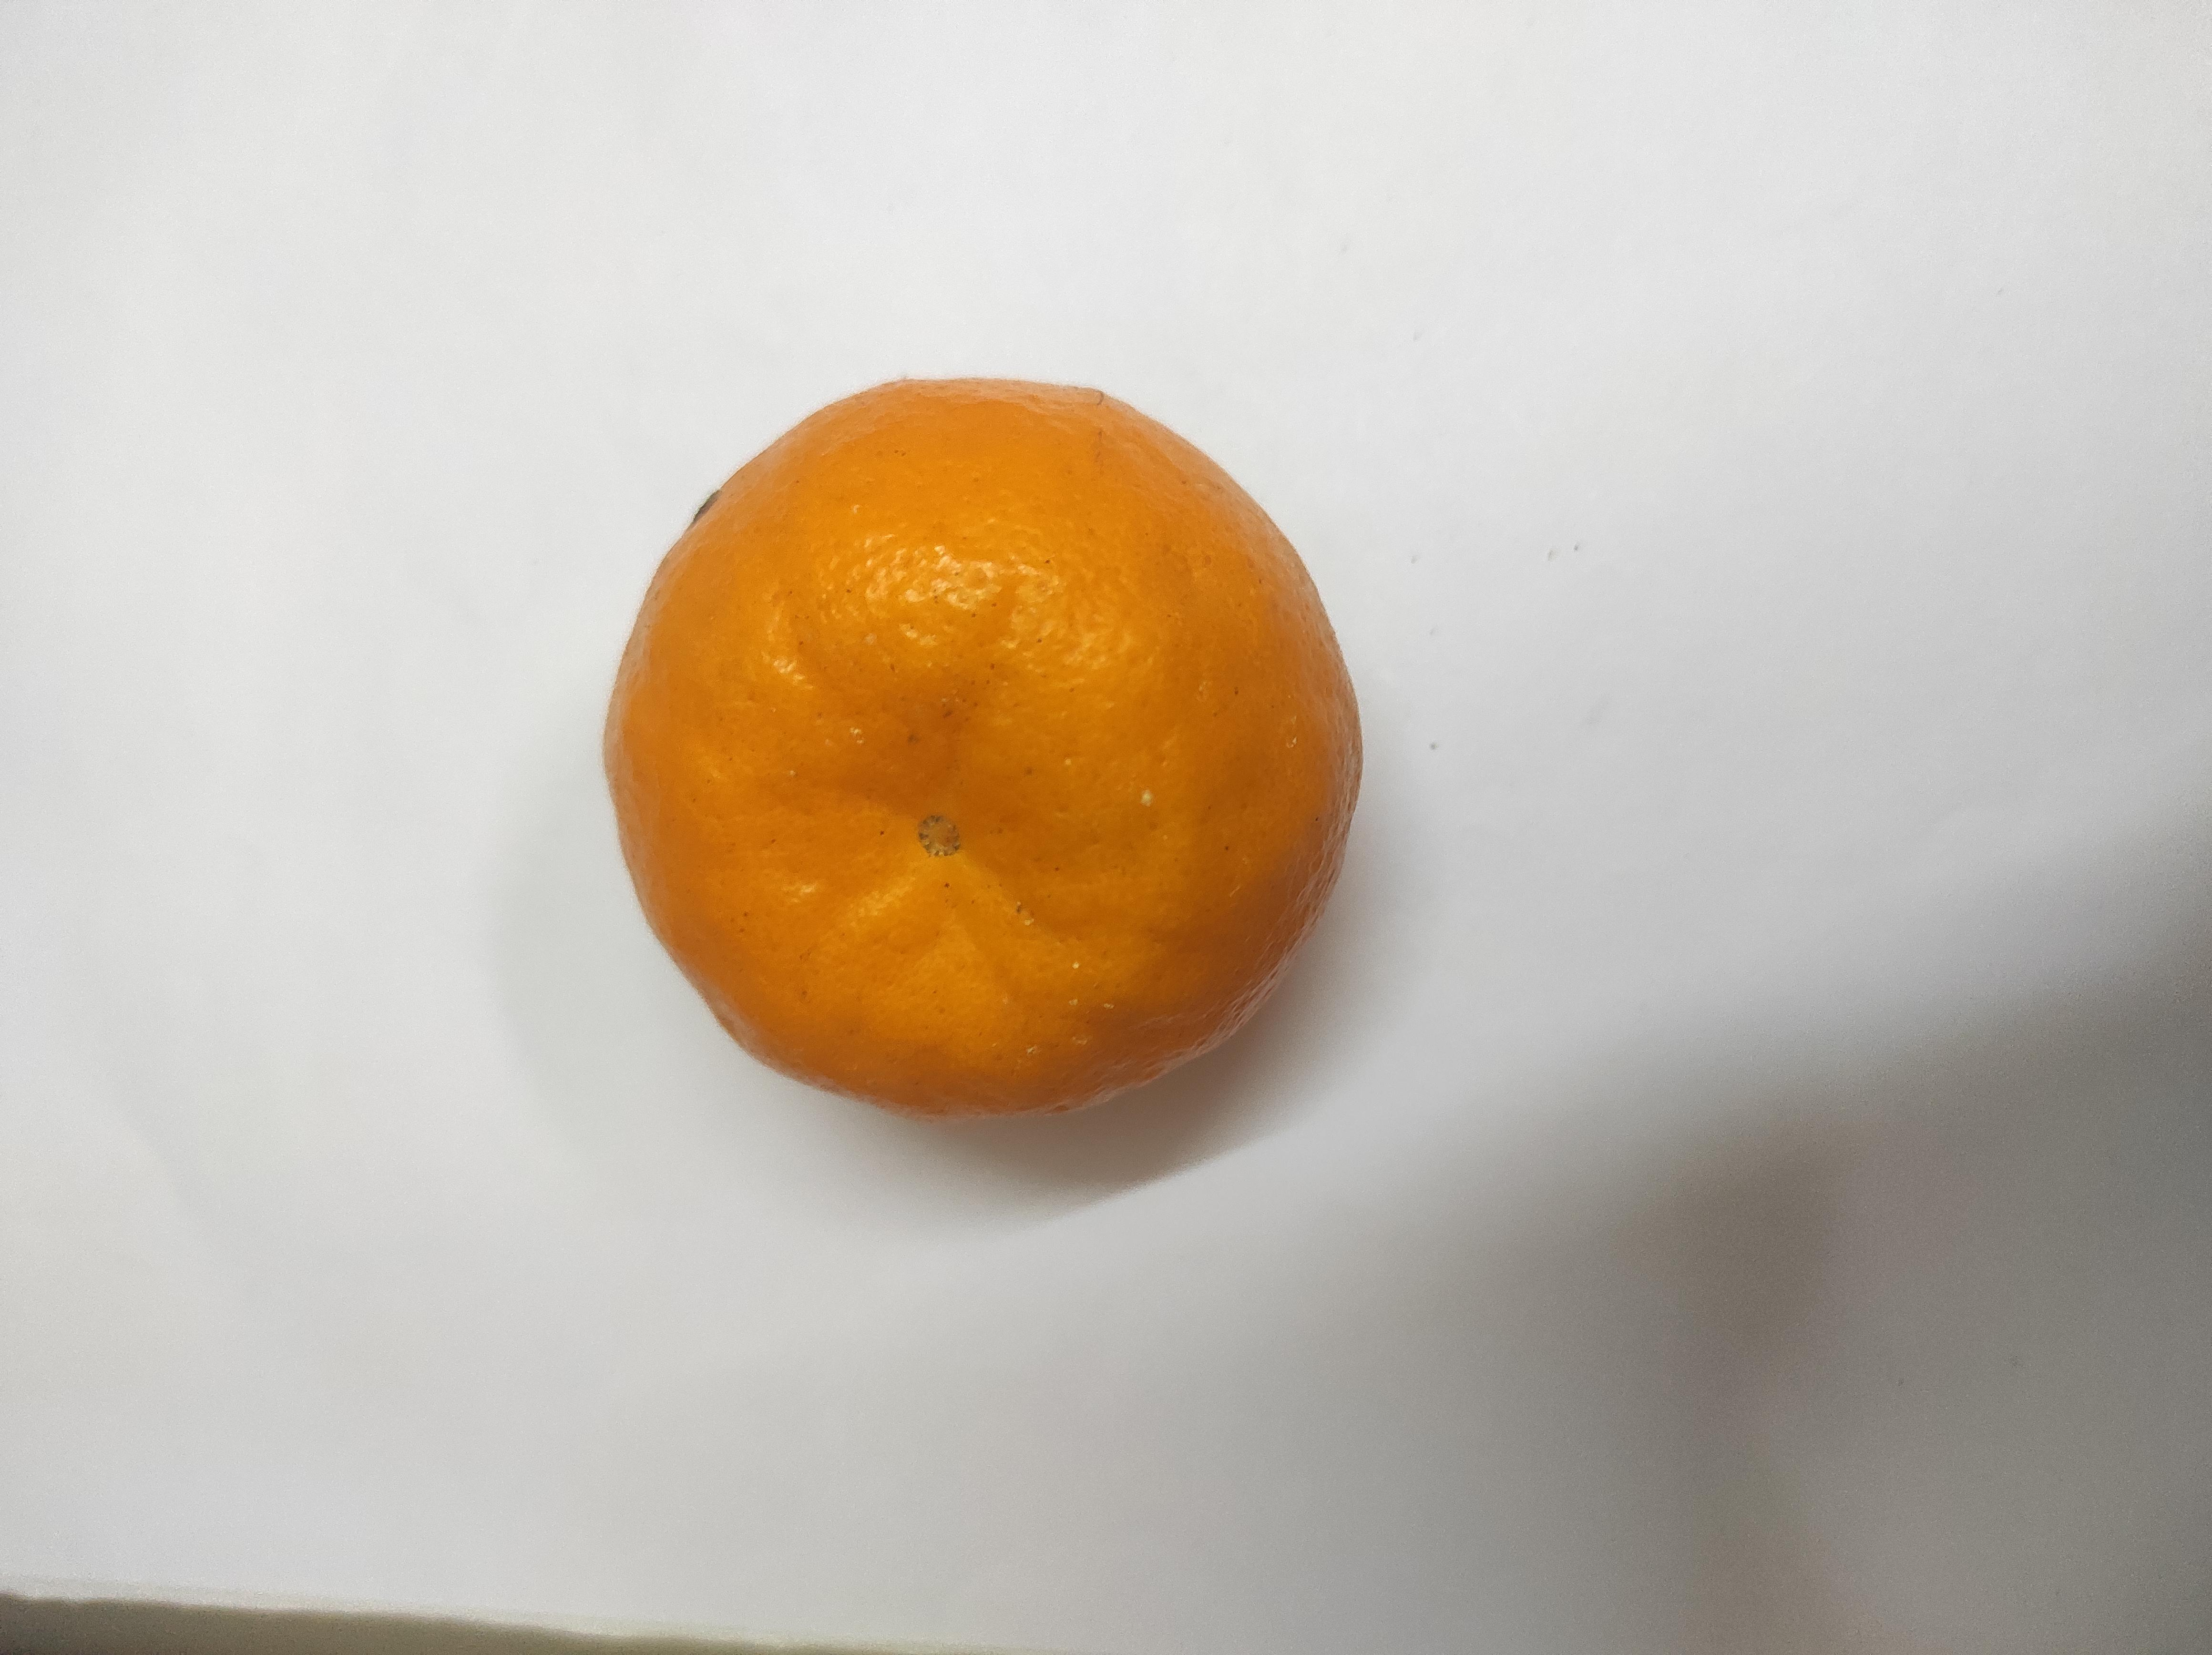Ripe: (596, 372, 1358, 1106)
